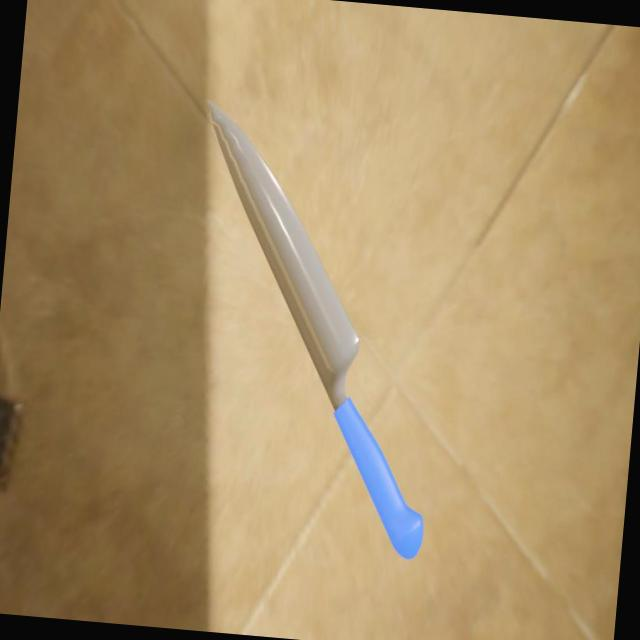knife: (321, 394, 434, 561)
